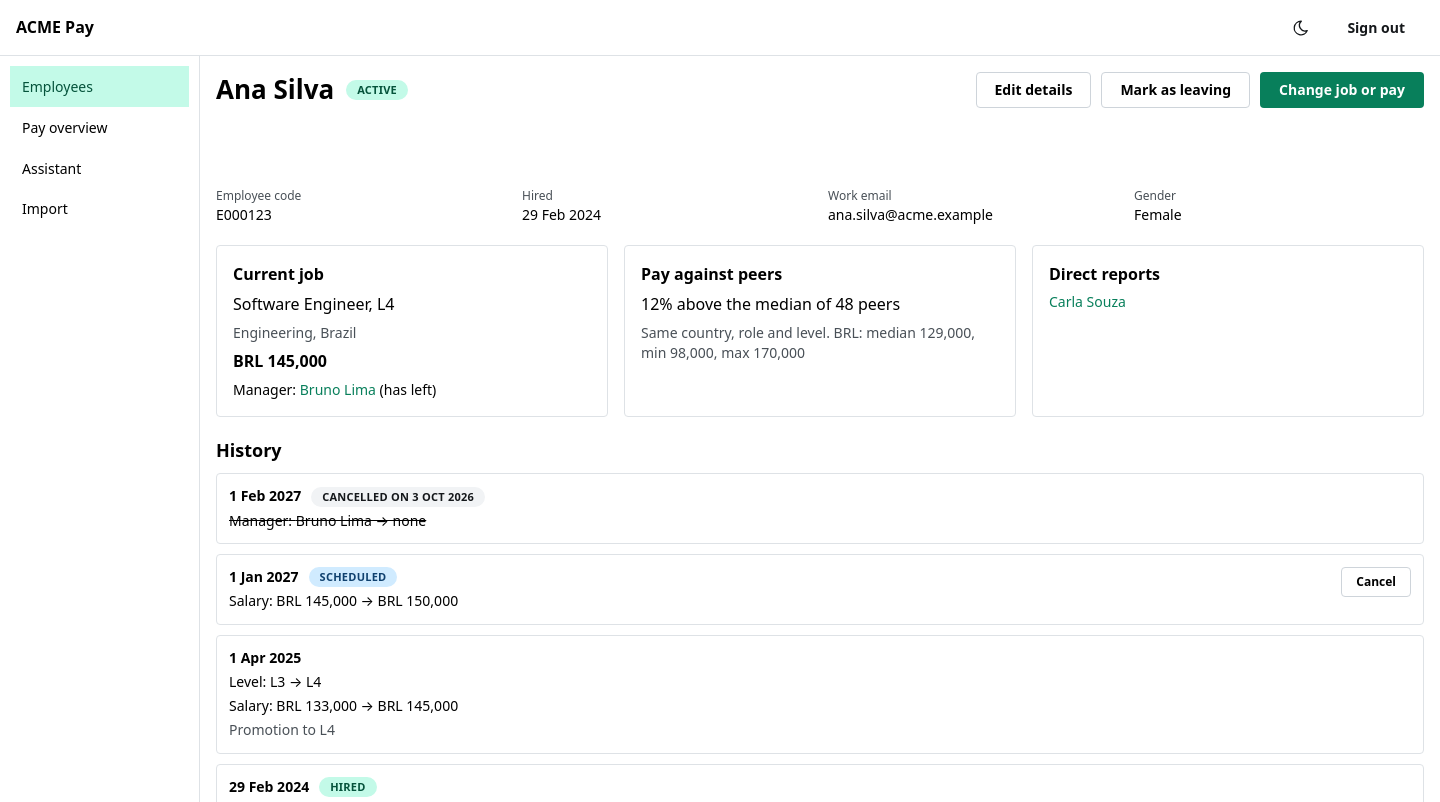
invalid fields show their messages and focus the first
Click the button "Edit details": [1033, 90] box [976,72,1091,108]
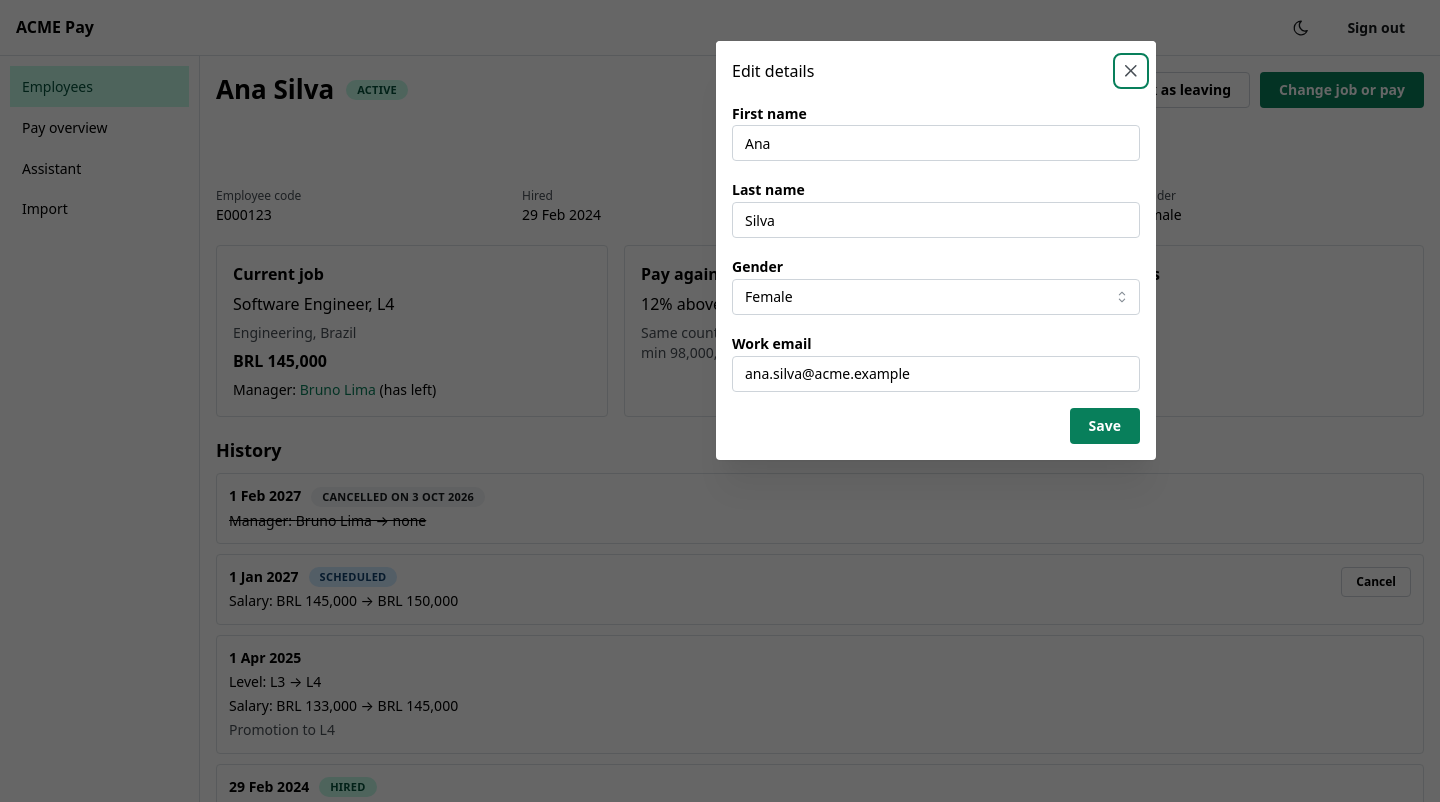
Expected: the field labelled "First name" holds "Ana"
Clear the field labelled "First name": [936, 143] box [732,125,1140,161]
Replace the text in the field labelled "Work email" with "not an email": [936, 374] box [732,356,1140,392]
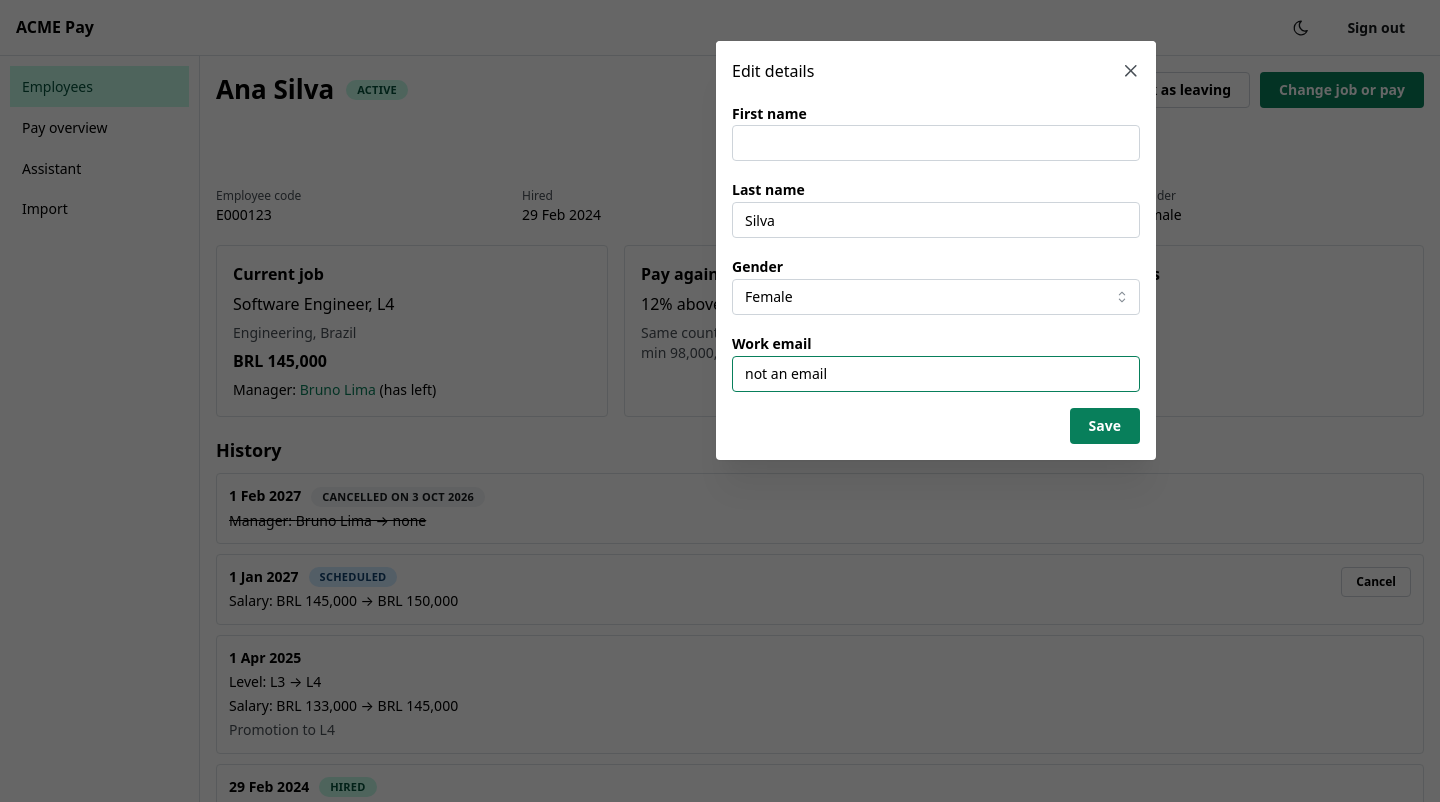
Click the button "Save": [1105, 426] box [1070,408,1140,444]
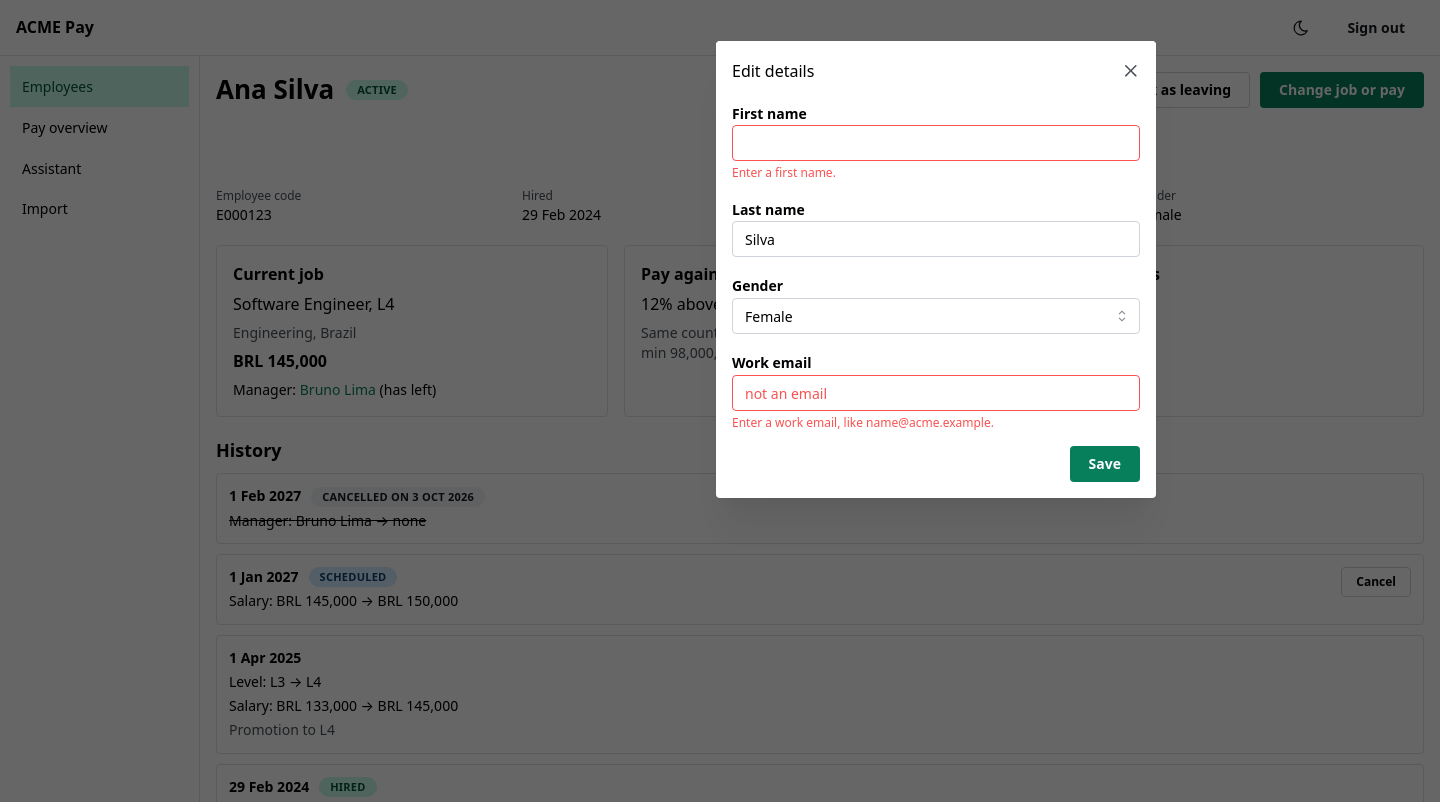
Expected: the text "Enter a first name." is shown, [732,164,836,181]
Expected: the text "Enter a work email, like name@acme.example." is shown, [732,414,994,431]
In the field labelled "First name": [936, 143] box [732,125,1140,161], type "Anna"
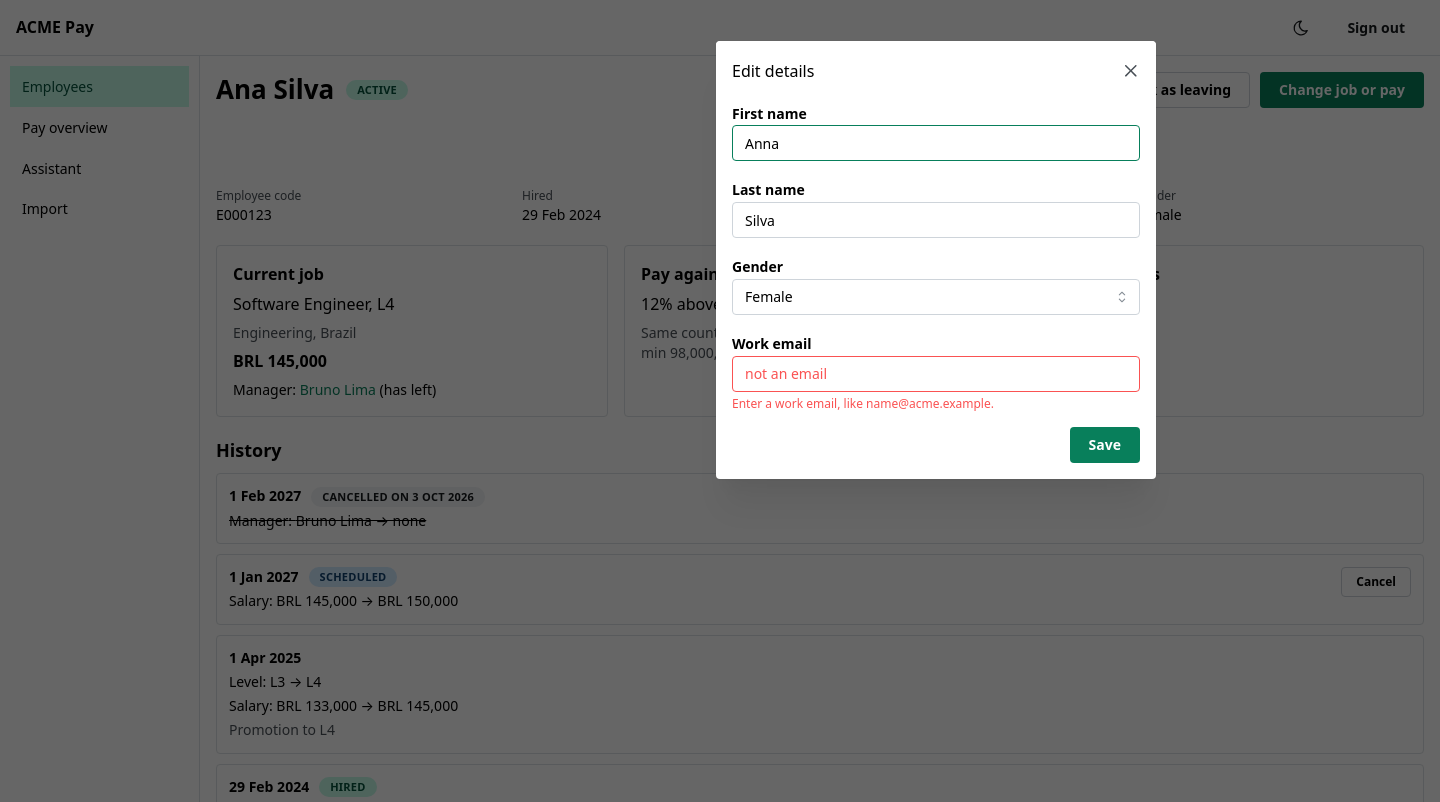
Replace the text in the field labelled "Work email" with "taken@acme.example": [936, 374] box [732,356,1140,392]
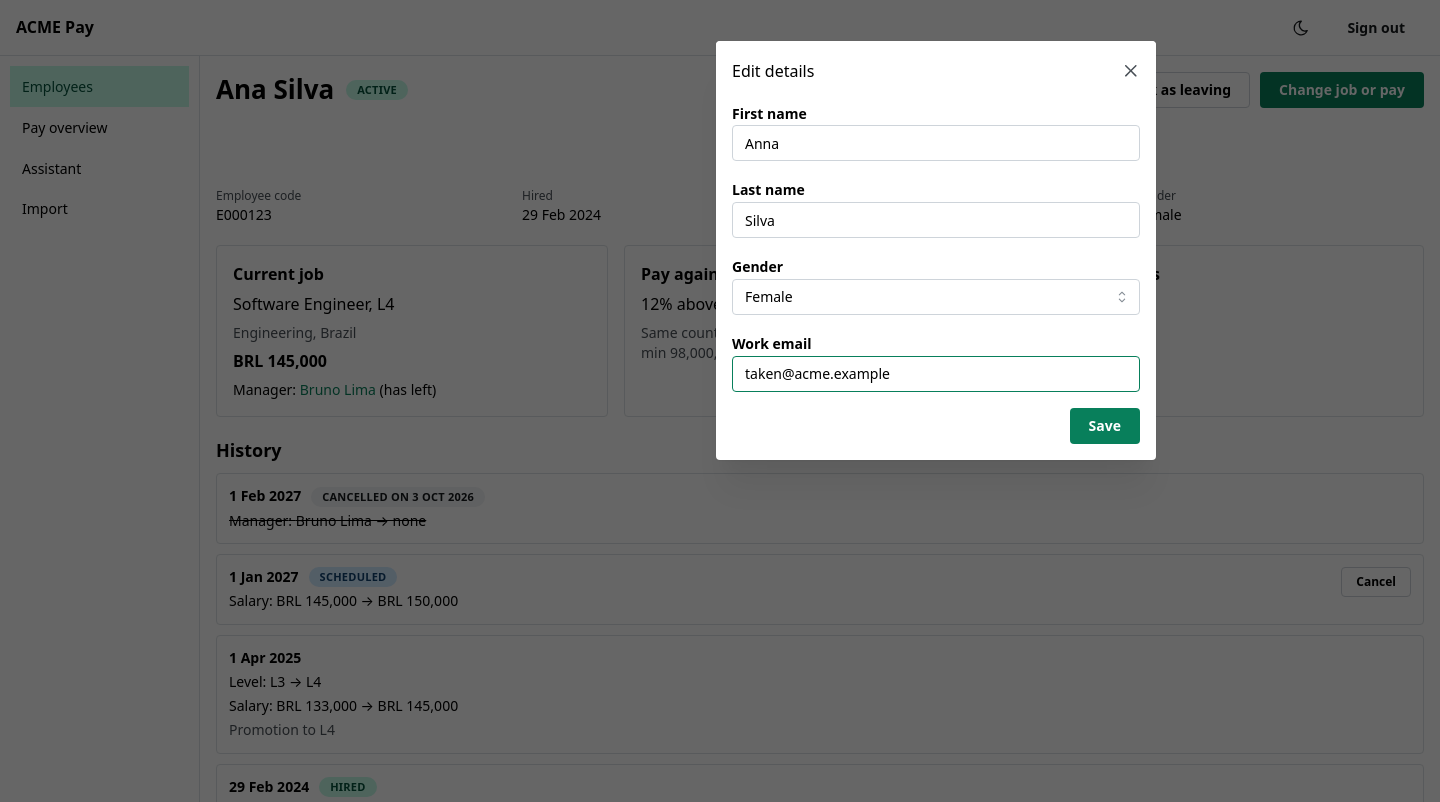
Click the button "Save": [1105, 426] box [1070,408,1140,444]
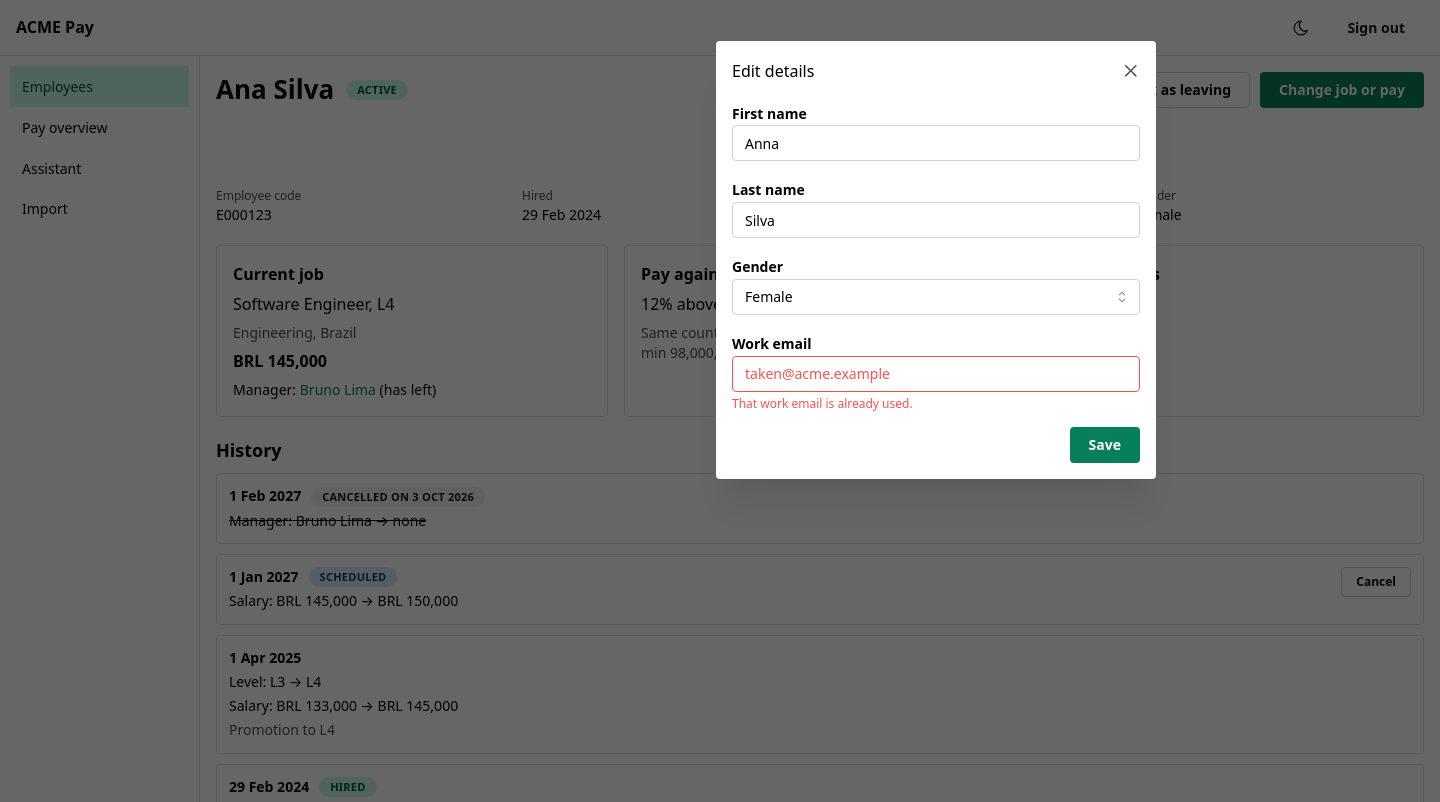
Expected: the text "That work email is already used." is shown, [732,395,913,412]
